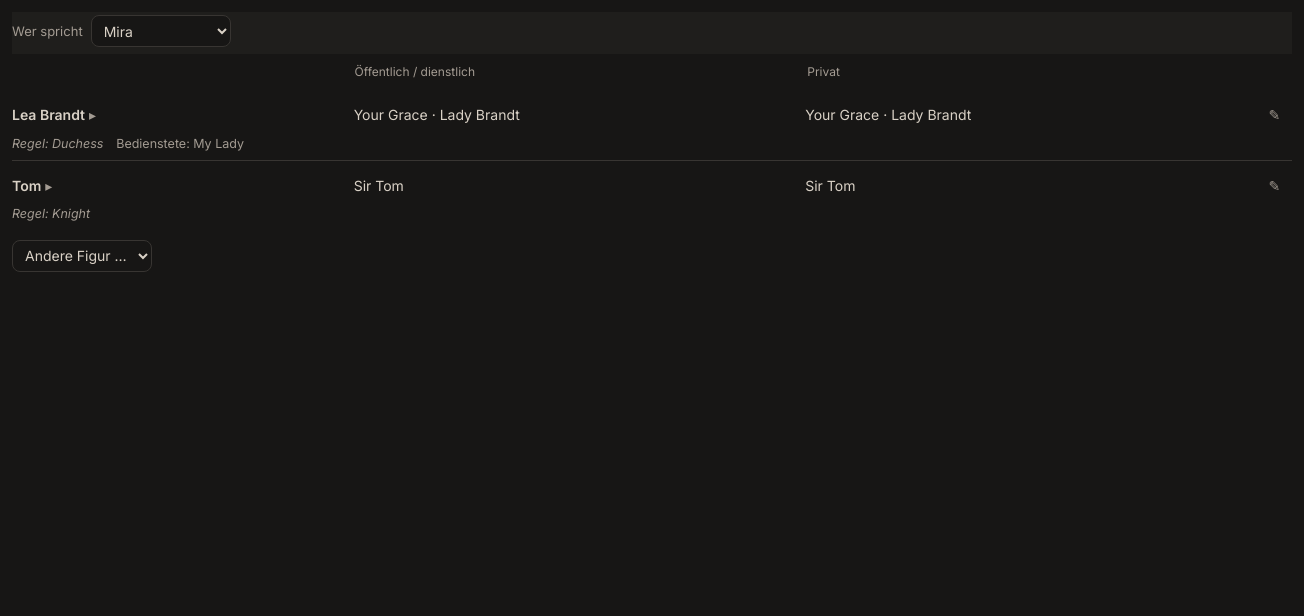
it: the pencil edits the direction and the row updates
Click the button named "Mira spricht Tom an – bearbeiten".
click(1274, 185)  # box [1257,168,1292,203]
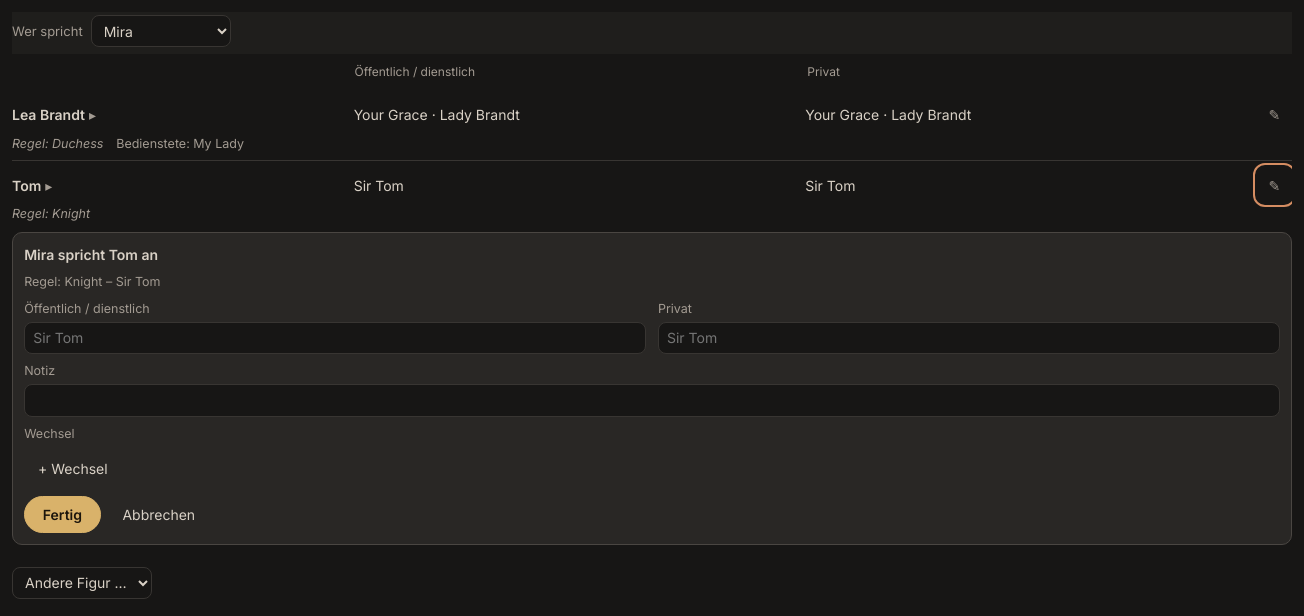
Type "Tom" into the field labelled "Öffentlich / dienstlich".
click(335, 338); type("Tom")  # box [24,322,646,354]
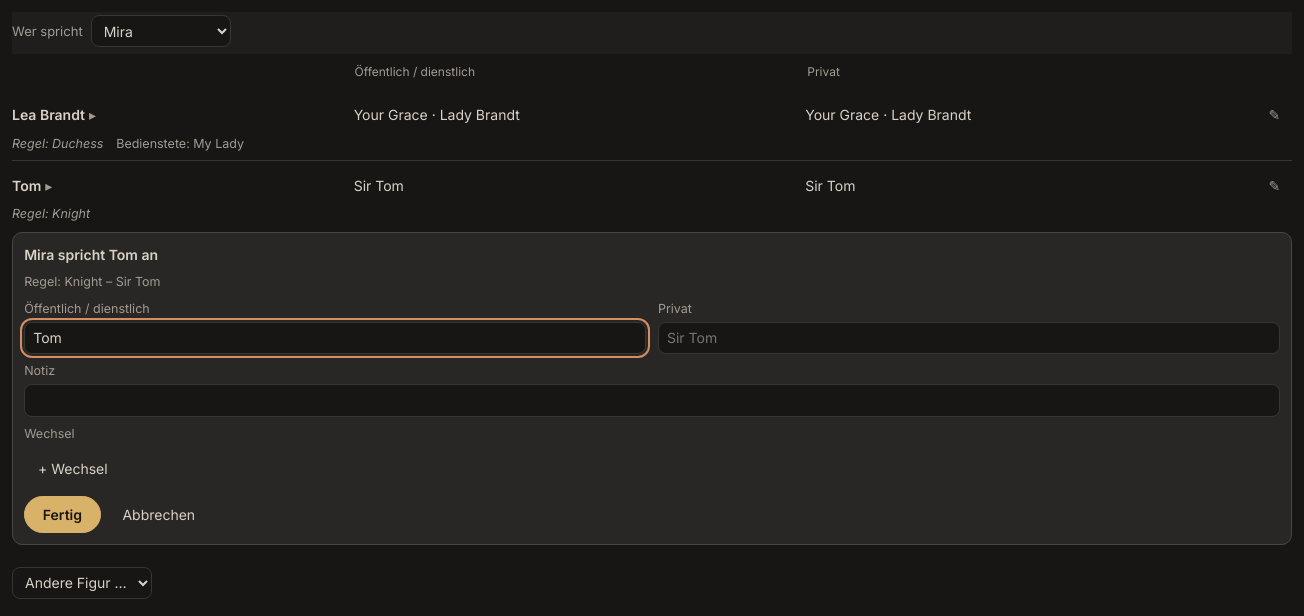
Click the button "Fertig".
click(62, 514)  # box [24,496,101,533]
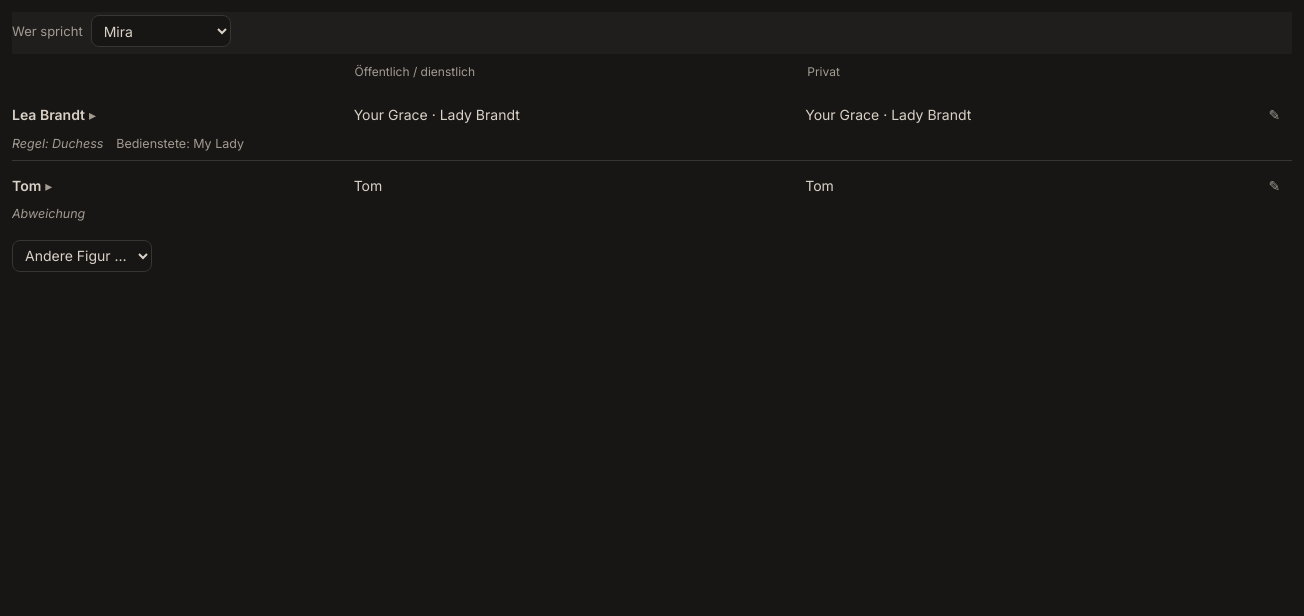
Now the list item "Tom" shows "Abweichung", box [12,206,85,221]
Now the 1st element with class "address-row-public" reads "Tom", box [354,176,382,194]
